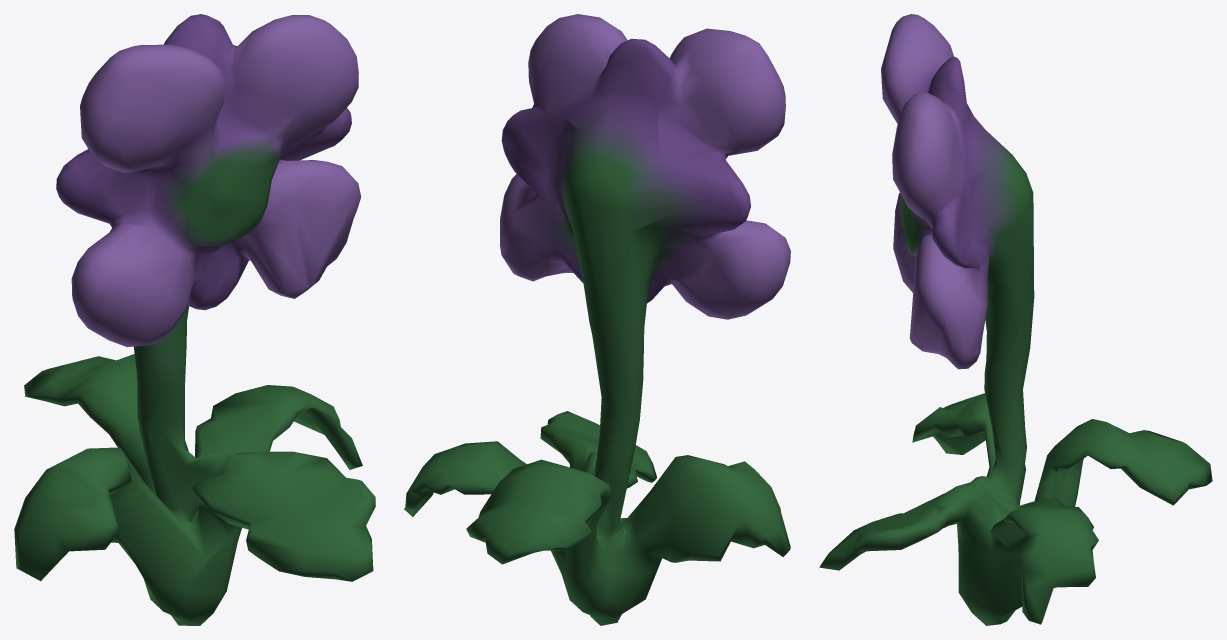
The model's file is Flower.fbx.
3 renders of one model, left to right at view 1: azimuth 30°, elevation 25°; view 2: azimuth 150°, elevation 25°; view 3: azimuth 270°, elevation 25°, orthographic. The views are drawn at different scales.
Parts seen in each view (by area): view 1: FlowerLow; view 2: FlowerLow; view 3: FlowerLow.
Boxes of the visible parts, x1,y1,x2,y2 form: FlowerLow: (14,14,375,625); FlowerLow: (404,14,790,625); FlowerLow: (819,14,1212,625).
Bounding box in the file's own units: 114 × 181 × 115.
